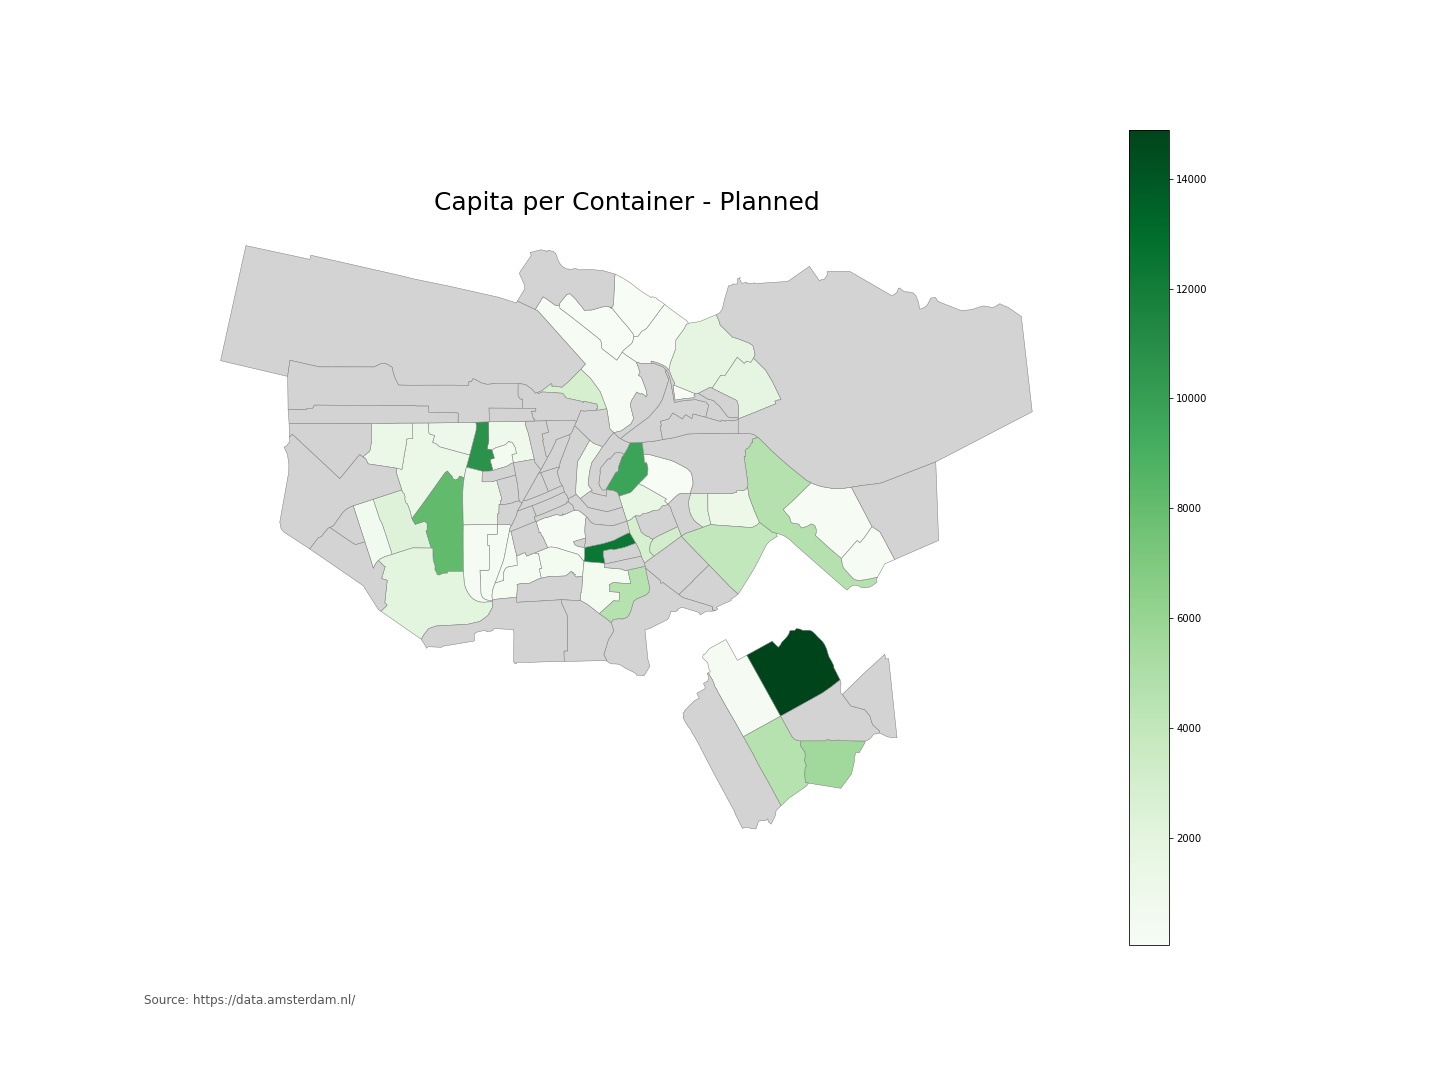

The page's visual inventory and layout, read from the dashboard file:
{"tool":"tableau","page":{"name":"Home","canvas":[1000,1000],"units":"permille","ordinal":0},"visuals":[{"type":"currpage","title":"Dashboard Header","box":[4.6,8.8,169,53.6]},{"type":"worksheet","title":"Dashboard Header","mark":"Automatic","box":[173.6,8.8,821.8,103.7]},{"type":"worksheet","title":"Density Map","mark":"Automatic","box":[4.6,112.5,990.9,878.8]}]}

Visuals, with their boxes on the dashboard's canvas, which has no fixed pixel size, in thousandths of its width and height (x1, y1, x2, y2). These are canvas units, not pixel positions in the 1440x1080 screenshot, which may show the page scaled, cropped or inside an application window:
"Dashboard Header" currpage: l=5, t=9, r=174, b=62
"Dashboard Header" worksheet: l=174, t=9, r=995, b=112
"Density Map" worksheet: l=5, t=112, r=996, b=991
